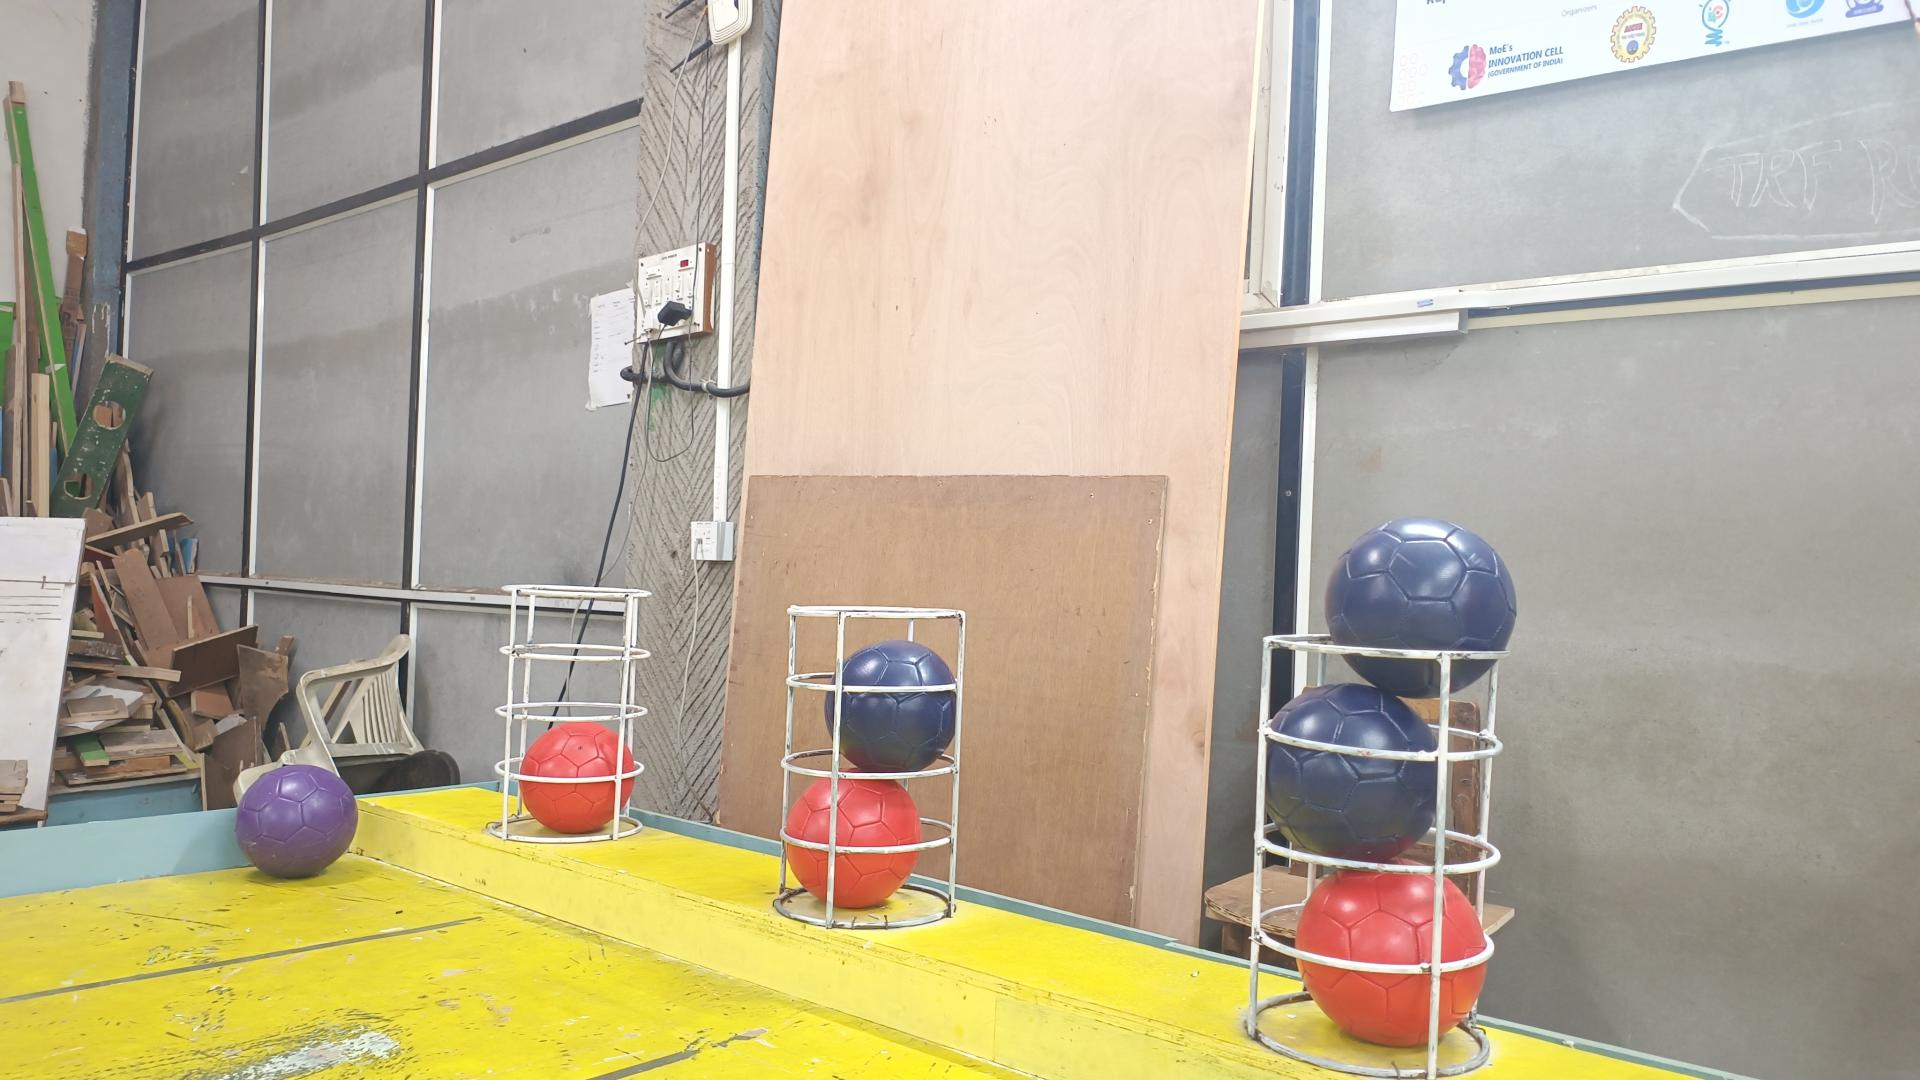dhoka: (1329, 514, 1520, 698), (1262, 686, 1439, 865), (822, 641, 957, 775)
laale: (1295, 865, 1490, 1046), (783, 774, 918, 906), (520, 723, 640, 836)
